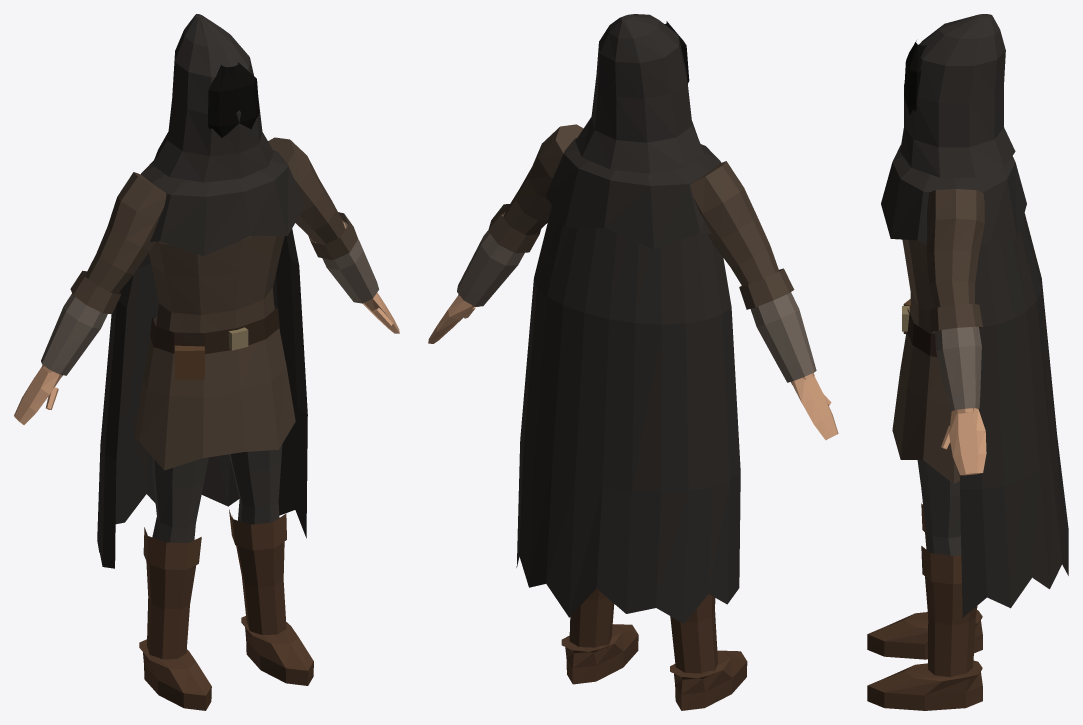
File: wanderer.glb
3 renders of one model, left to right at view 1: azimuth 30°, elevation 25°; view 2: azimuth 150°, elevation 25°; view 3: azimuth 270°, elevation 25°, orthographic. The views are drawn at different scales.
Visible parts, largest first — view 1: cloak, tunicSkirt, hood, torso, mantle, upperArm (×2), bootShaft (×2), boot (×2), thigh (×2), bracer (×2), bootCuff (×2), faceShadow (+5 smaller); view 2: cloak, hood, mantle, upperArm (×2), bracer (×2), boot (×2), bootShaft (×2), sleeveCuff (×2), hand (×2); view 3: cloak, hood, mantle, boot (×2), upperArm, tunicSkirt, bootShaft, bracer, thigh, hand, torso, sleeveCuff (+4 smaller).
Part boxes in pixels (left/top/right/bottom): cloak: left=97, top=228, right=307, bottom=568; tunicSkirt: left=134, top=304, right=295, bottom=470; hood: left=152, top=14, right=273, bottom=182; torso: left=149, top=236, right=284, bottom=333; mantle: left=141, top=150, right=305, bottom=256; upperArm (×2): left=85, top=137, right=345, bottom=293; bootShaft (×2): left=146, top=516, right=286, bottom=659; boot (×2): left=139, top=616, right=313, bottom=710; thigh (×2): left=151, top=444, right=282, bottom=527; bracer (×2): left=41, top=222, right=378, bottom=375; bootCuff (×2): left=143, top=509, right=286, bottom=569; faceShadow: left=207, top=62, right=259, bottom=137; cloak: left=516, top=206, right=740, bottom=623; hood: left=575, top=14, right=704, bottom=173; mantle: left=546, top=138, right=720, bottom=249; upperArm (×2): left=503, top=124, right=779, bottom=286; bracer (×2): left=457, top=214, right=816, bottom=382; boot (×2): left=561, top=624, right=747, bottom=710; bootShaft (×2): left=569, top=588, right=717, bottom=673; sleeveCuff (×2): left=488, top=204, right=794, bottom=309; hand (×2): left=428, top=295, right=838, bottom=440; cloak: left=959, top=213, right=1068, bottom=617; hood: left=900, top=14, right=1015, bottom=177; mantle: left=881, top=145, right=1026, bottom=245; boot (×2): left=867, top=610, right=982, bottom=710; upperArm: left=926, top=189, right=984, bottom=308; tunicSkirt: left=892, top=309, right=959, bottom=483; bootShaft: left=925, top=576, right=977, bottom=688; bracer: left=935, top=326, right=981, bottom=411; thigh: left=917, top=460, right=960, bottom=538; hand: left=949, top=408, right=986, bottom=475; torso: left=902, top=239, right=934, bottom=334; sleeveCuff: left=930, top=304, right=982, bottom=332.
Size of the model in its own units: 1.18 by 1.89 by 0.5229.
